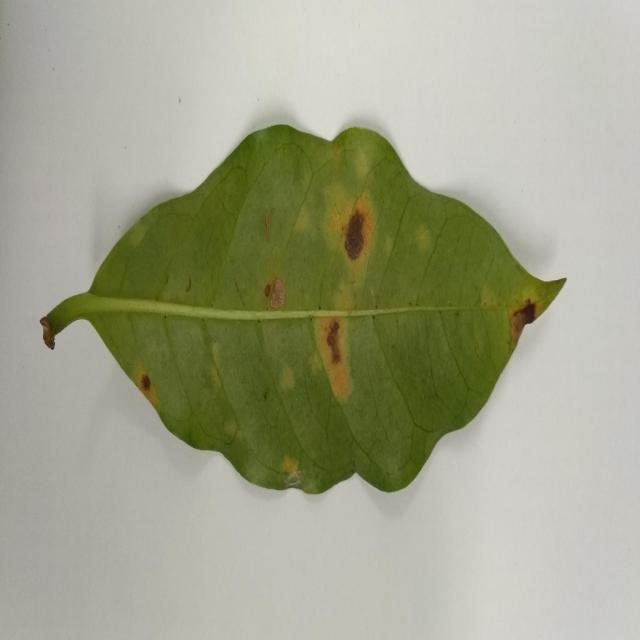Enfermedad-Roya: (38, 124, 568, 498)
